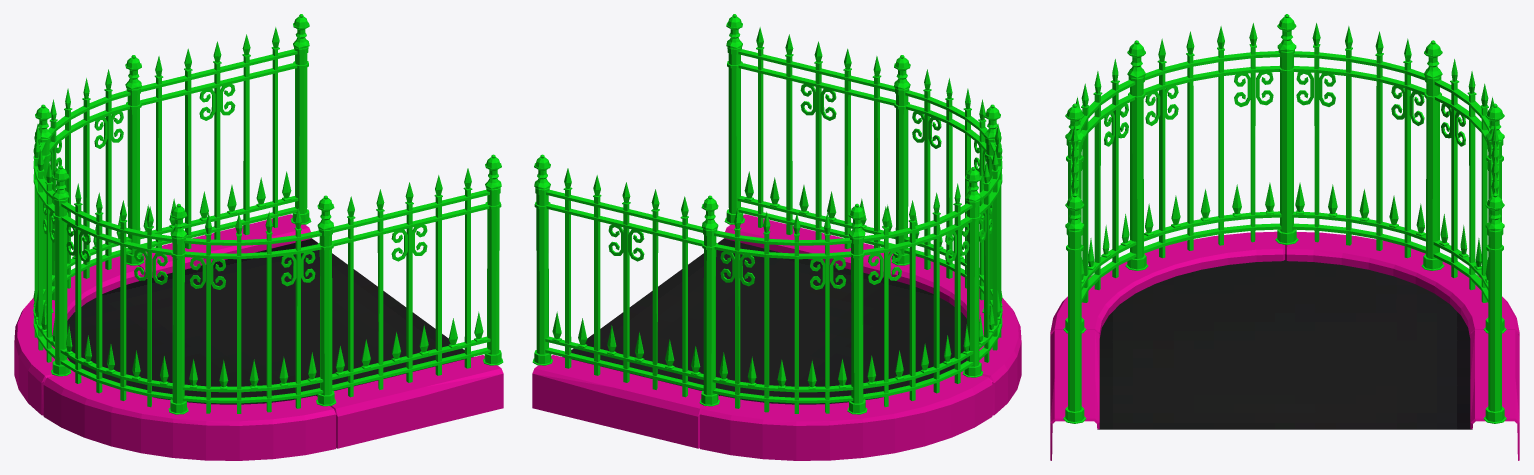
File: City_Fence03.fbx
3 views of the same model, side by side, from view 1: azimuth 30°, elevation 25°; view 2: azimuth 150°, elevation 25°; view 3: azimuth 270°, elevation 25° (orthographic). The views are drawn at different scales.
Parts seen in each view (by area): view 1: SM_City_Fence_04_Divider_01.mo; view 2: SM_City_Fence_04_Divider_01.mo; view 3: SM_City_Fence_04_Divider_01.mo.
Boxes of the visible parts, <box> form: SM_City_Fence_04_Divider_01.mo: <box>14,14,503,460</box>; SM_City_Fence_04_Divider_01.mo: <box>532,14,1021,460</box>; SM_City_Fence_04_Divider_01.mo: <box>1050,14,1519,460</box>.
Size of the model in its own units: 345 by 222 by 352.
